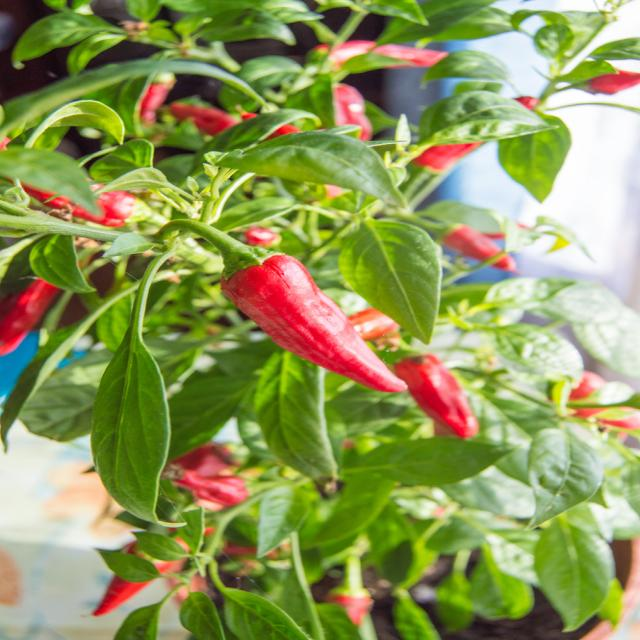Ripe: (222, 254, 408, 392), (394, 354, 477, 436), (0, 279, 60, 354), (92, 575, 149, 616), (169, 102, 239, 134), (444, 225, 502, 261), (414, 142, 482, 172), (350, 308, 398, 338), (586, 70, 640, 94), (141, 84, 169, 122)
